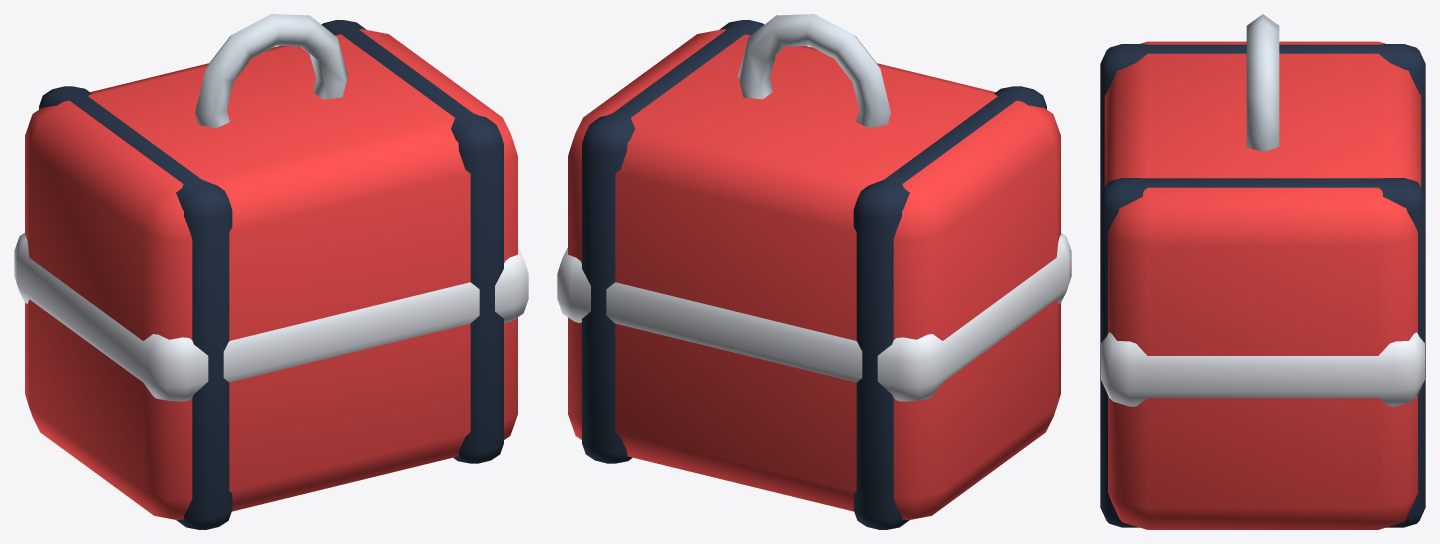
Rendered from TNT.fbx.
3 renders of one model, left to right at view 1: azimuth 30°, elevation 25°; view 2: azimuth 150°, elevation 25°; view 3: azimuth 270°, elevation 25°, orthographic.
Parts seen in each view (by area): view 1: TNT; view 2: TNT; view 3: TNT.
Part boxes in pixels (left/top/right/bottom): TNT: left=14, top=14, right=528, bottom=529; TNT: left=557, top=14, right=1071, bottom=529; TNT: left=1100, top=14, right=1425, bottom=529.
Bounding box in the file's own units: 0.305 × 0.333 × 0.226.
